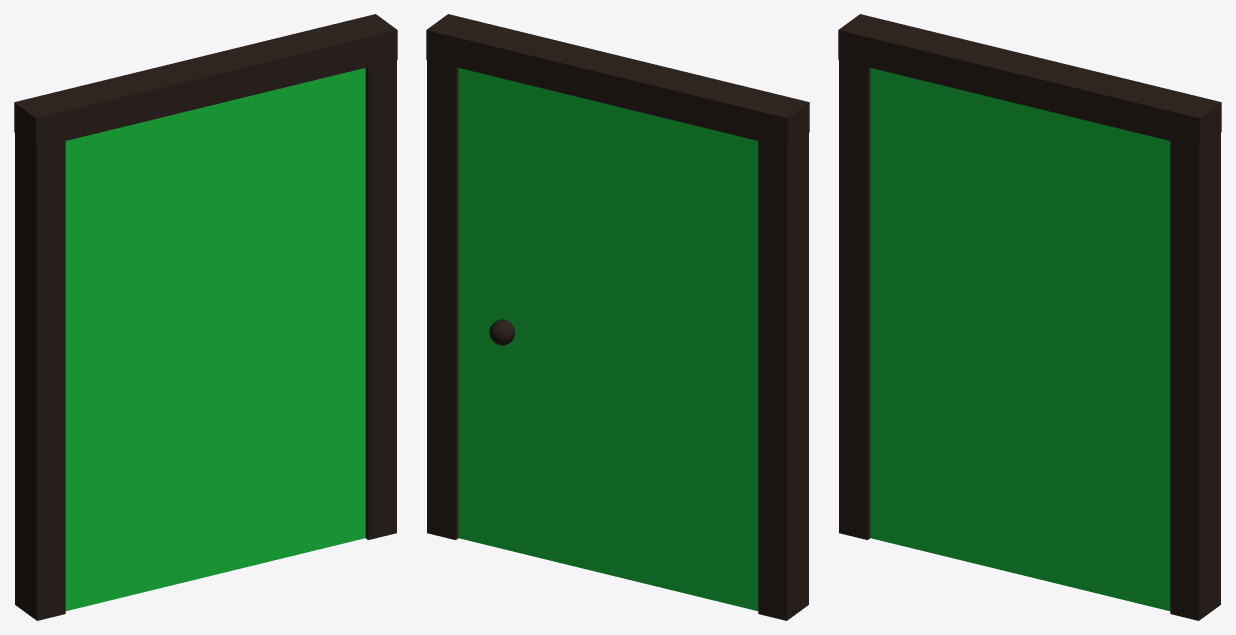
File: ExitDoor.obj
3 views of the same model, side by side, from view 1: azimuth 30°, elevation 25°; view 2: azimuth 150°, elevation 25°; view 3: azimuth 330°, elevation 25° (orthographic).
Visible parts, largest first — view 1: ExitDoor; view 2: ExitDoor; view 3: ExitDoor.
Boxes of the visible parts, x1=… form: ExitDoor: x1=14, y1=14, x2=397, y2=620; ExitDoor: x1=426, y1=14, x2=809, y2=620; ExitDoor: x1=838, y1=14, x2=1221, y2=620.
Bounding box in the file's own units: 1.9 × 2.53 × 0.26.
